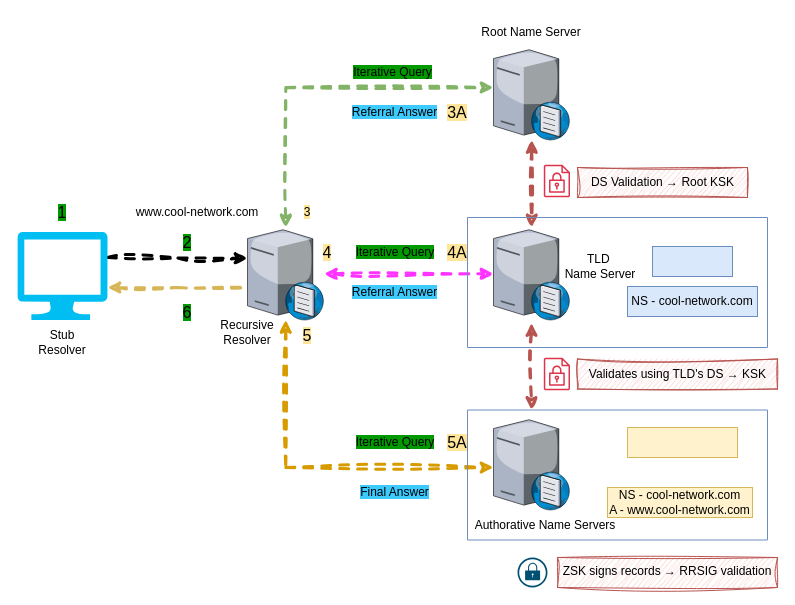
The diagram is 795 pixels wide and 605 high, and some of its shapes have lost their labels. The box of each missing label's shape, as (x1, y1, x2, y2) in pixels:
Child Zone (Authorative Zone): (626, 426, 738, 458)
Parent Zone: (652, 246, 732, 276)
